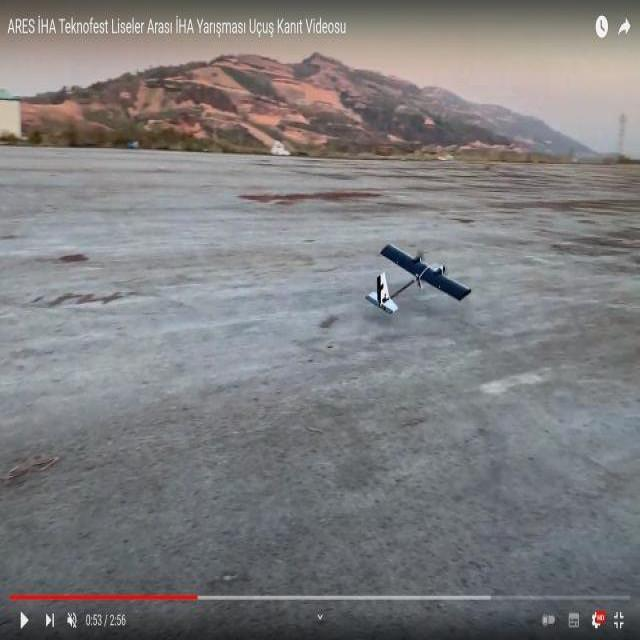UAV: (348, 229, 434, 322)
